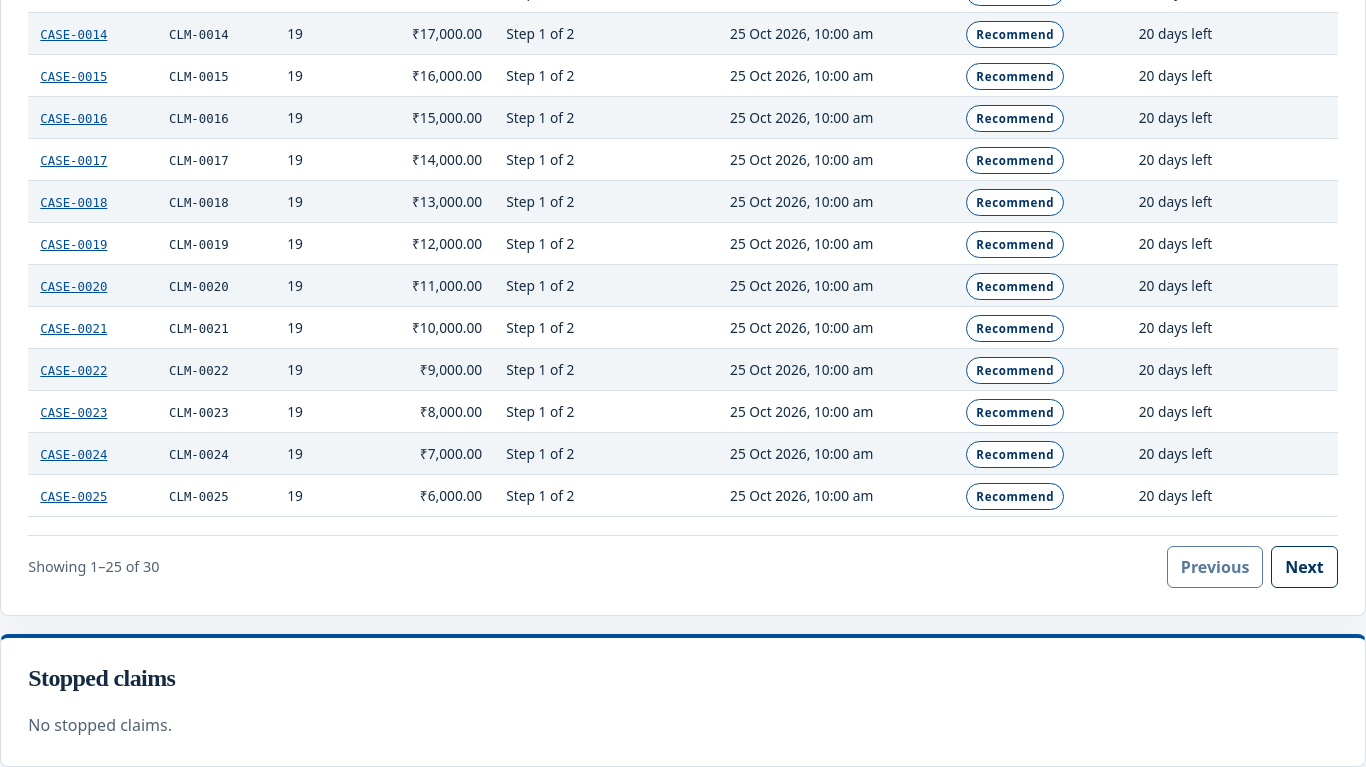
Test: P2.28d WorkQueuePage UI integration › paginates 30 mocked cases into 25 on page 1 and 5 on page 2
(page scrolled)
Check: the text "Showing 1–25 of 30" is shown, box [28, 557, 160, 576]
Check: the button "Previous" is disabled, box [1167, 546, 1263, 588]
// Click Next
Click the button "Next" at (1304, 567), box [1271, 546, 1338, 588]
(page scrolled)
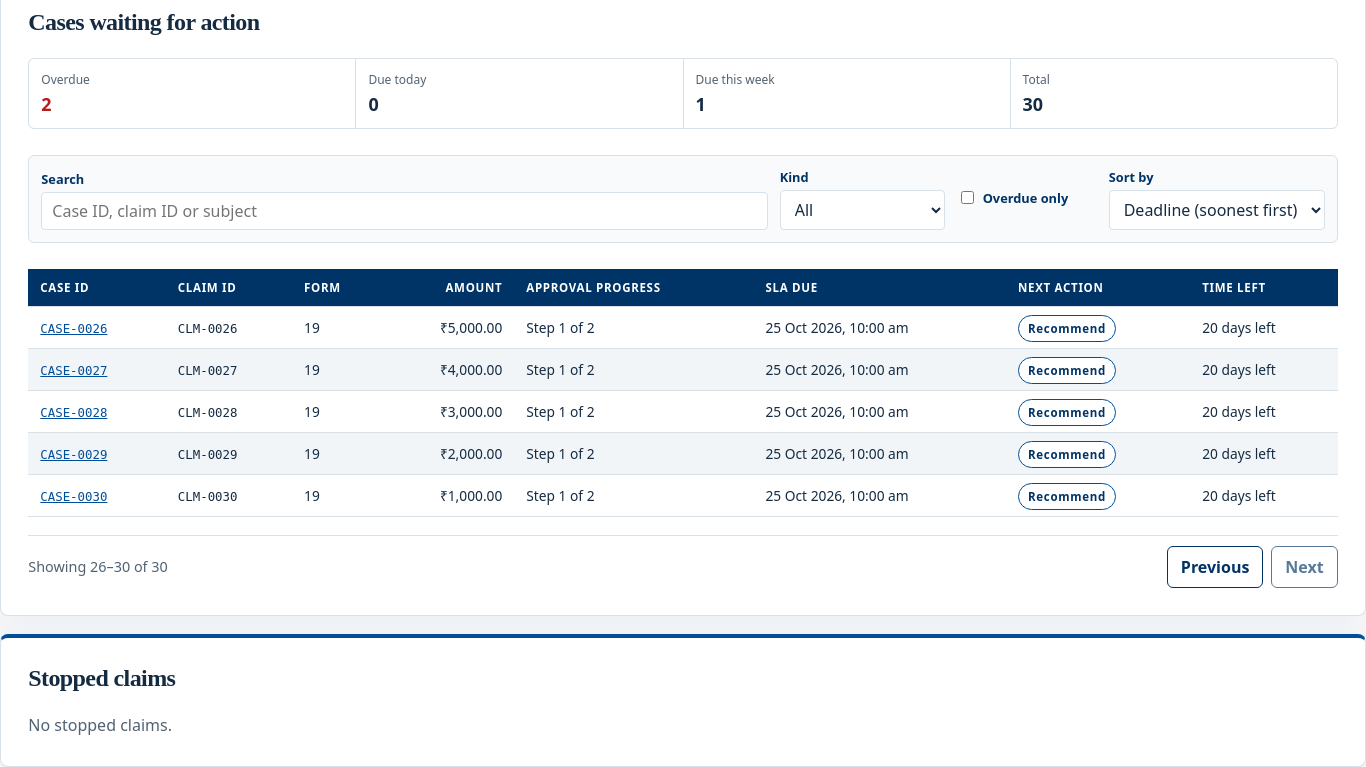
Check: the text "Showing 26–30 of 30" is shown, box [28, 557, 168, 576]
Check: the number of rows is 6, box [28, 269, 1338, 306]; [28, 306, 1338, 348]; [28, 348, 1338, 390]; [28, 390, 1338, 432]; [28, 432, 1338, 474]; [28, 474, 1338, 516]
Check: the text "CASE-0026" is shown, box [40, 322, 107, 336]
